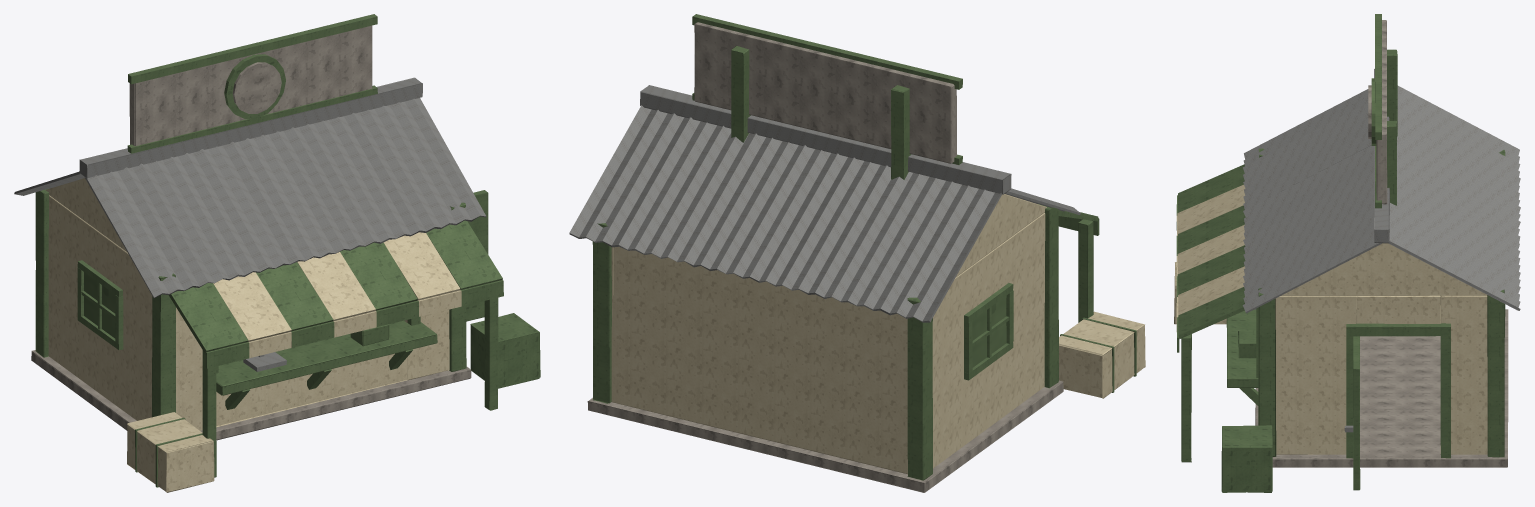
File: sell_depot.glb
3 renders of one model, left to right at view 1: azimuth 30°, elevation 25°; view 2: azimuth 150°, elevation 25°; view 3: azimuth 270°, elevation 25°, orthographic. The views are drawn at different scales.
Visible parts, largest first — view 1: SellDepot; view 2: SellDepot; view 3: SellDepot.
Boxes of the visible parts, x1,y1,x2,y2 form: SellDepot: (14,14,540,492); SellDepot: (569,14,1145,492); SellDepot: (1174,14,1520,492).
Size of the model in its own units: 7.8 by 5.88 by 5.77.
4 materials, 4 textured.
